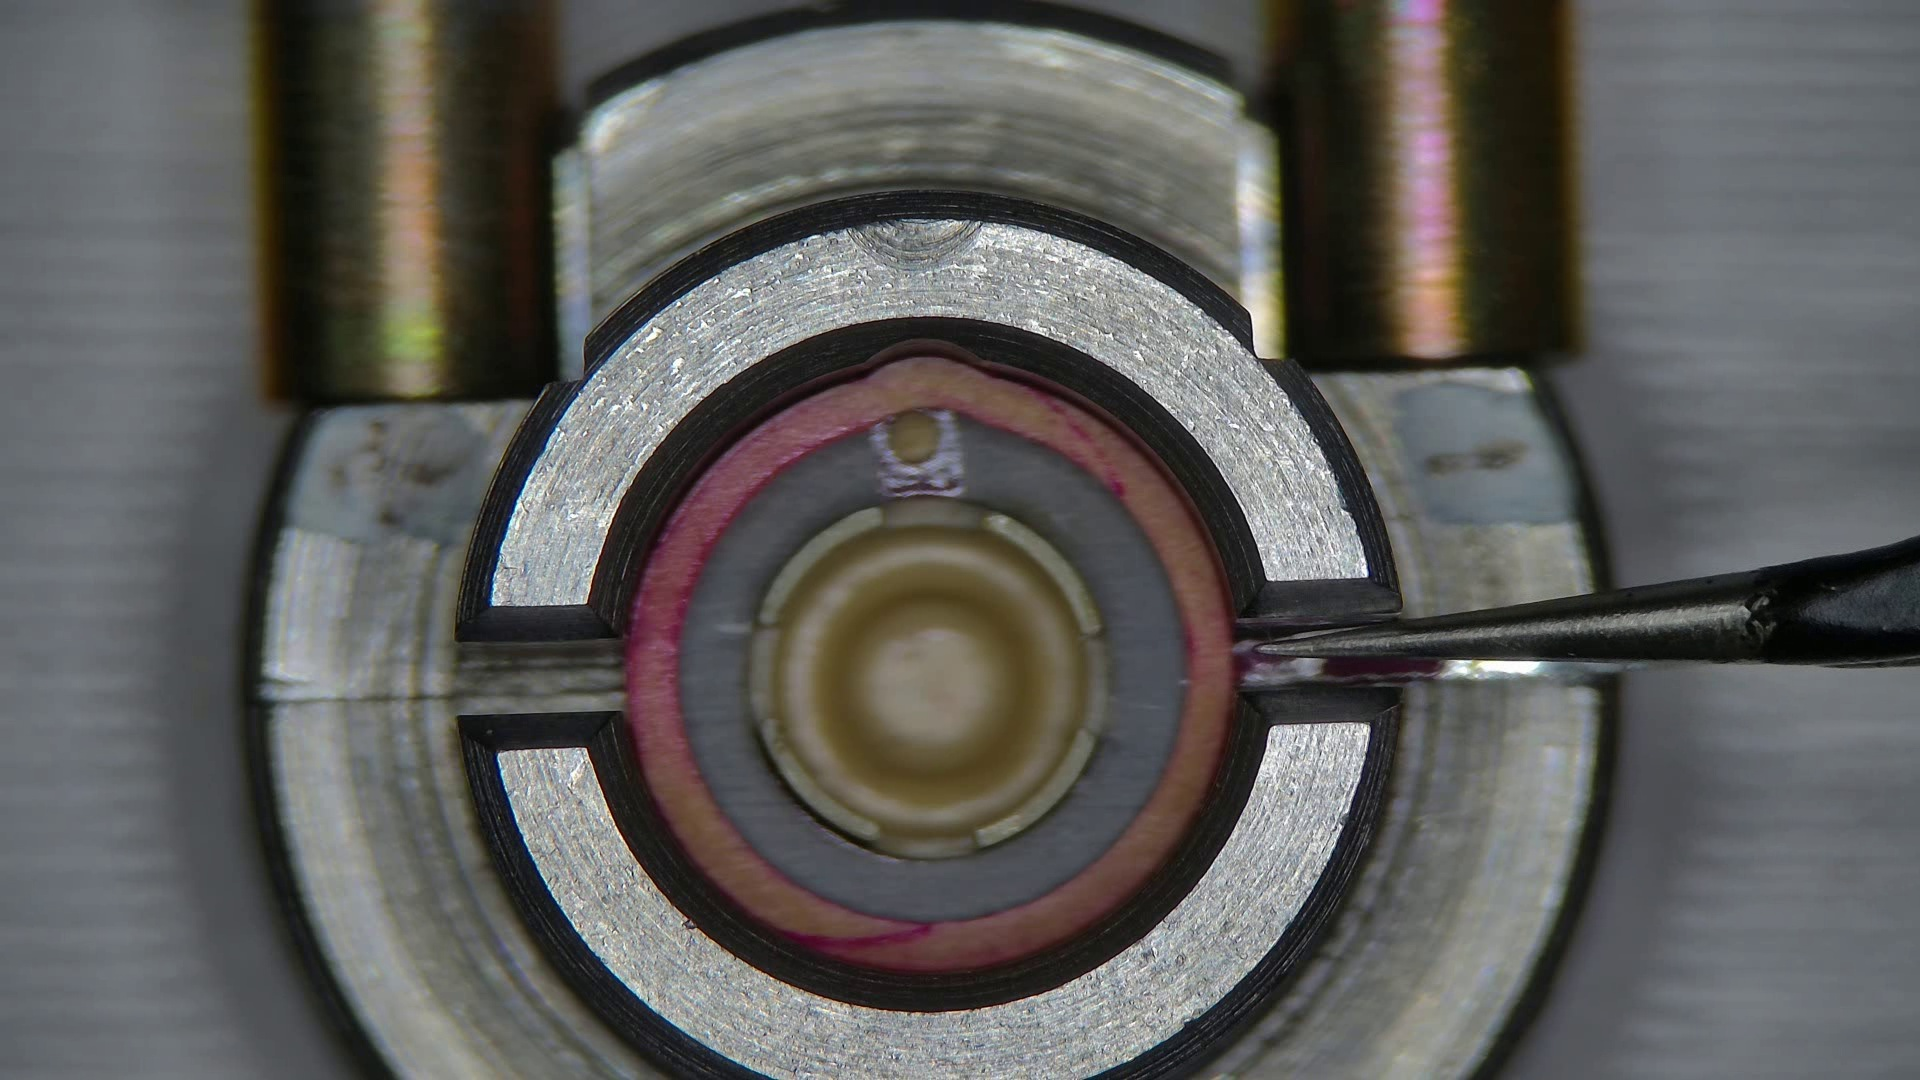GreyOring: (626, 355, 1236, 972)
YellowOring: (684, 413, 1182, 919)
